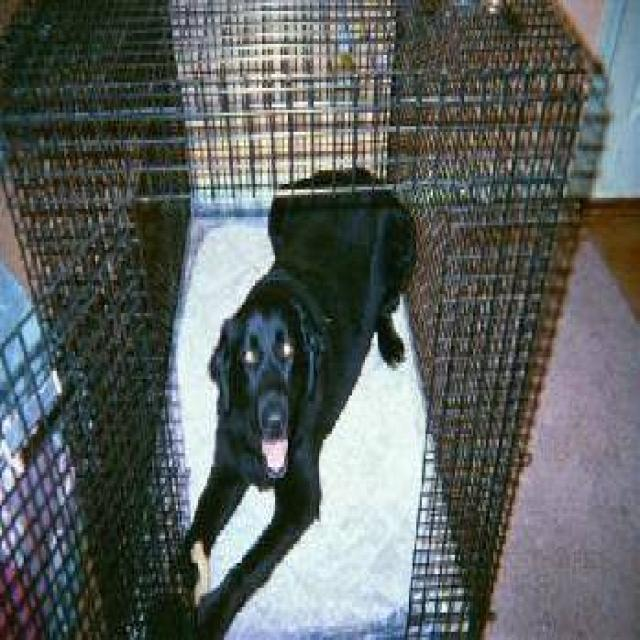dogs: (152, 134, 432, 640)
